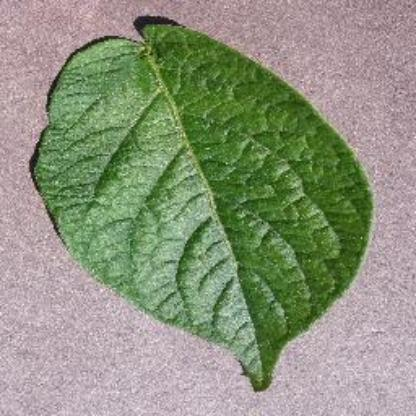Healthy-plant: (20, 15, 374, 393)
